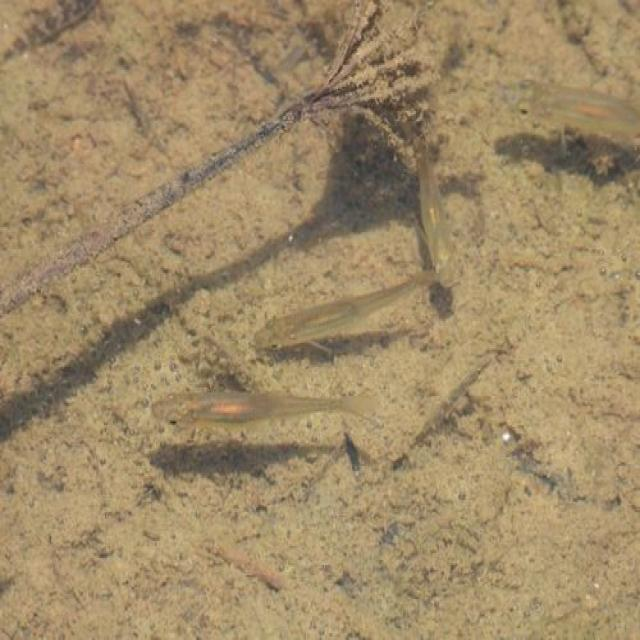Cakil Baligi: (251, 258, 442, 358), (144, 384, 402, 433), (406, 122, 470, 300)
